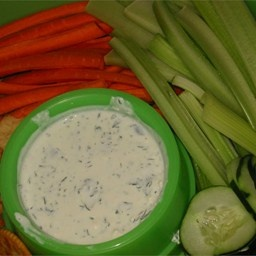background: (0, 0, 102, 102), (6, 38, 67, 97), (0, 11, 14, 102)
